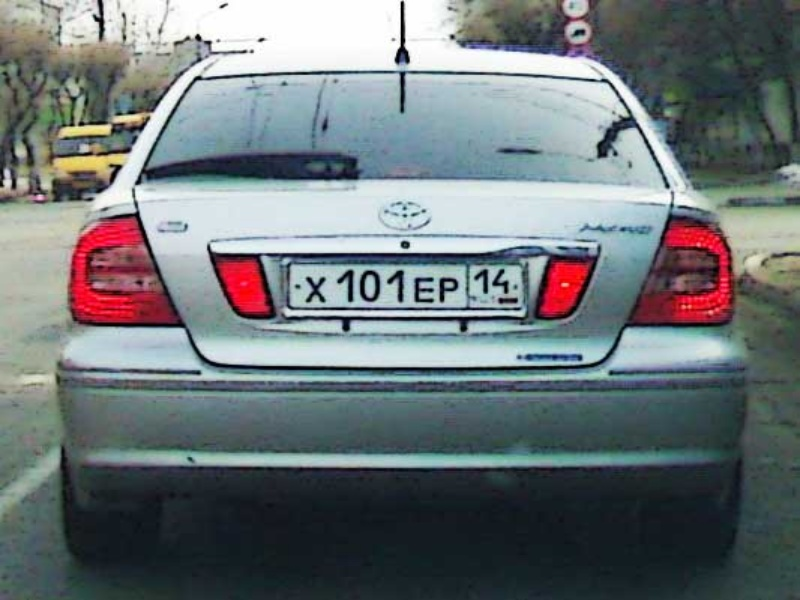car: (57, 51, 747, 570), (53, 123, 107, 198)
plate: (290, 264, 520, 305)
